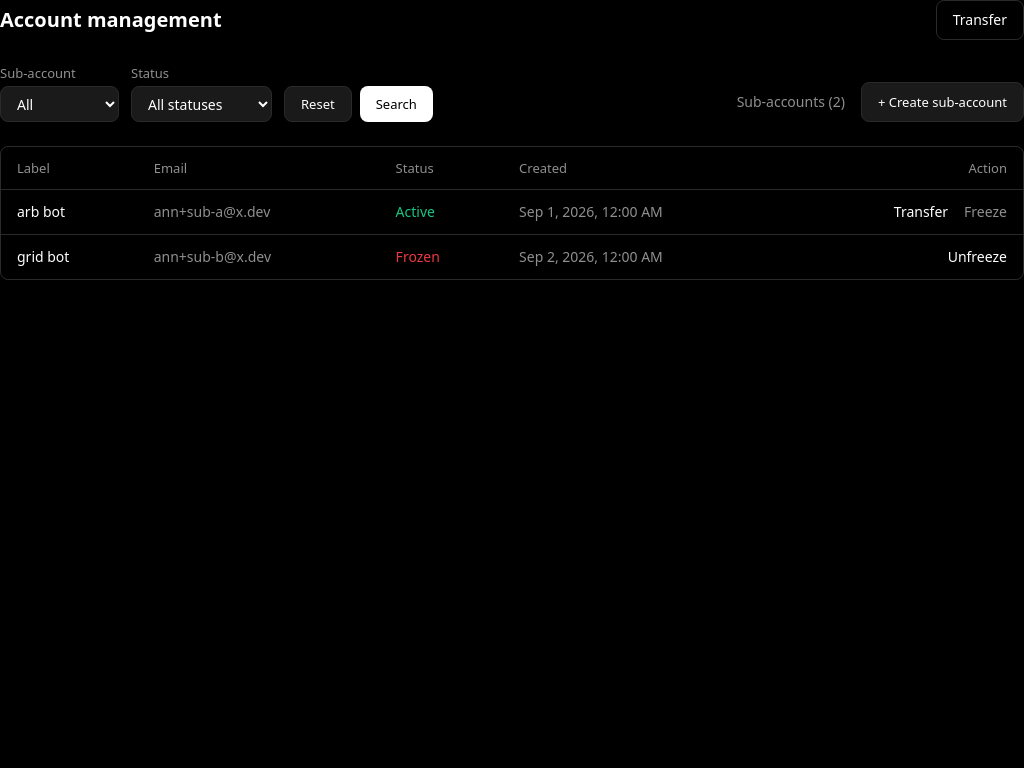
Test: Sub-accounts › creates in a dialog, and the count is every sub, not the filtered ones
Expected: the text "Sub-accounts (2)" is shown, [737, 92, 845, 112]
Click the button "+ Create sub-account" at (942, 102), box [861, 82, 1023, 122]
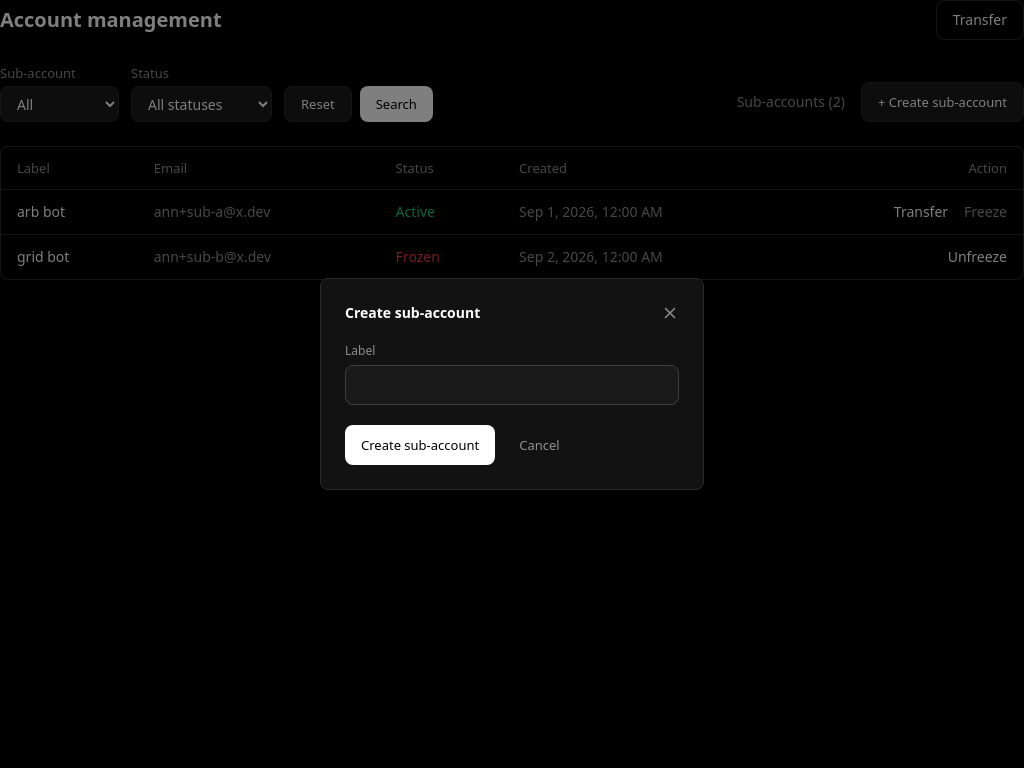
Type "new" into the field labelled "Label" at (512, 385), box [345, 365, 679, 405]
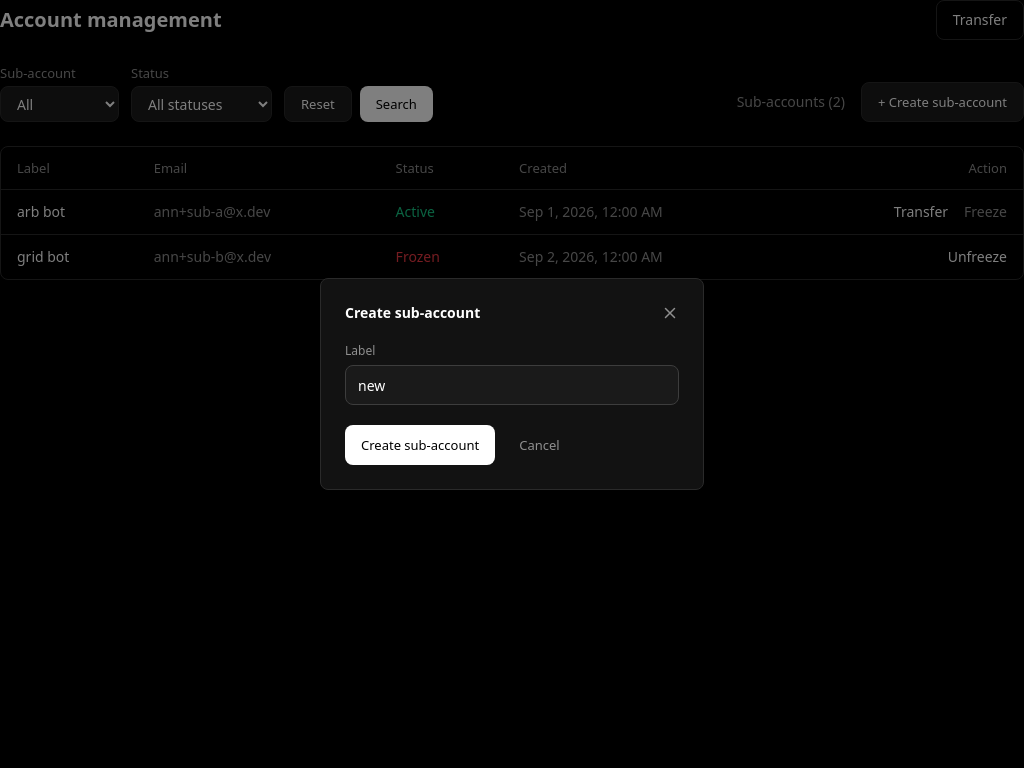
Click the button "Create sub-account" at (420, 445), box [345, 425, 495, 465]
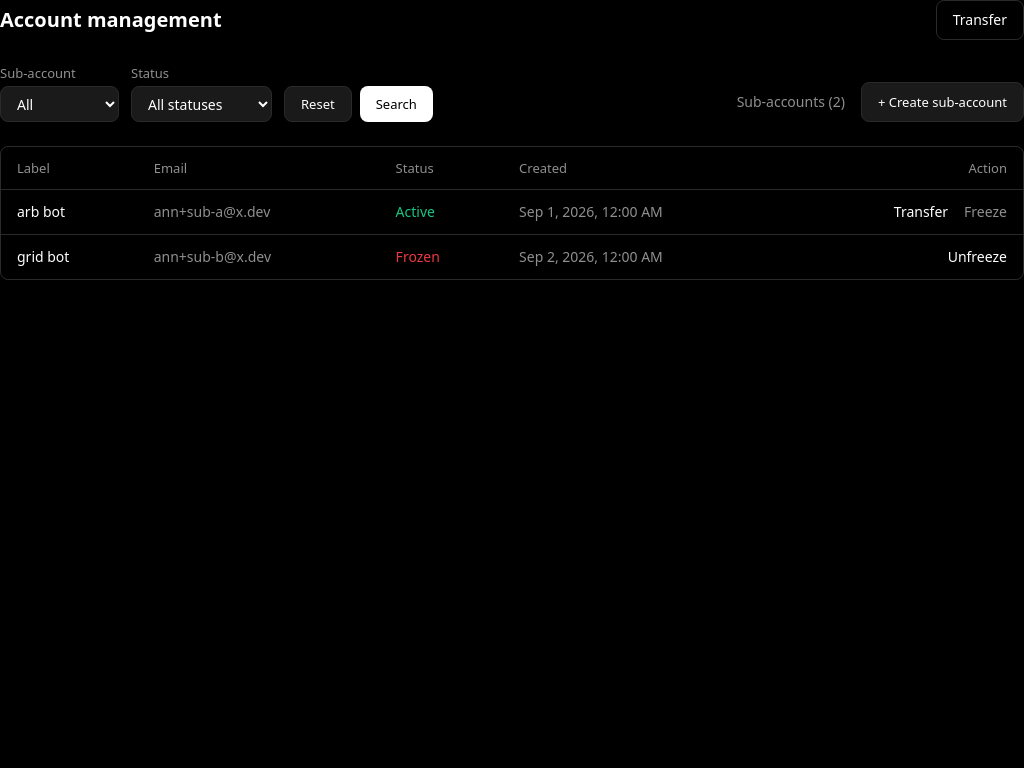
Expected: the dialog is gone
